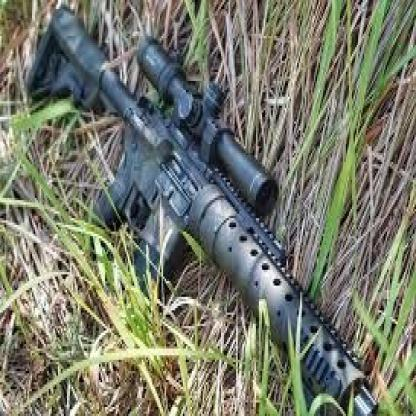Gun: (24, 5, 379, 416)
